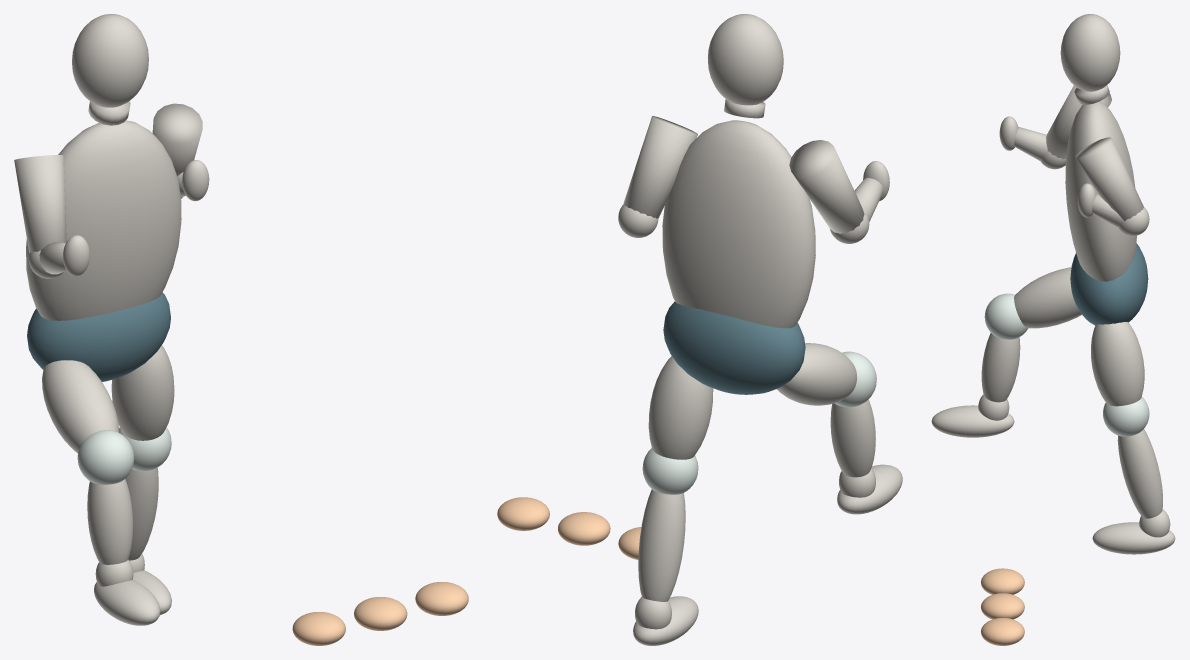
File: movement-agility.glb
3 renders of one model, left to right at view 1: azimuth 30°, elevation 25°; view 2: azimuth 150°, elevation 25°; view 3: azimuth 270°, elevation 25°, orthographic. The views are drawn at different scales.
Parts seen in each view (by area): view 1: static #eee5d3, static #203c48, static #f2a066, static #c7ddd2; view 2: static #eee5d3, static #203c48, static #f2a066, static #c7ddd2; view 3: static #eee5d3, static #203c48, static #f2a066, static #c7ddd2.
Part boxes in pixels (left/top/right/bottom): static #eee5d3: left=14, top=14, right=209, bottom=625; static #203c48: left=27, top=292, right=170, bottom=381; static #f2a066: left=292, top=582, right=468, bottom=645; static #c7ddd2: left=77, top=427, right=171, bottom=484; static #eee5d3: left=618, top=14, right=902, bottom=645; static #203c48: left=663, top=301, right=805, bottom=394; static #f2a066: left=497, top=497, right=641, bottom=559; static #c7ddd2: left=642, top=351, right=876, bottom=494; static #eee5d3: left=931, top=14, right=1175, bottom=554; static #203c48: left=1070, top=243, right=1148, bottom=325; static #f2a066: left=981, top=568, right=1024, bottom=645; static #c7ddd2: left=984, top=293, right=1149, bottom=436.
Size of the model in its own units: 0.295 by 0.437 by 0.188.
